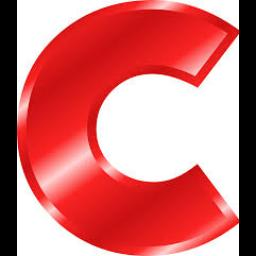c: (24, 2, 234, 250)
